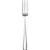Knife: (21, 0, 28, 49)
